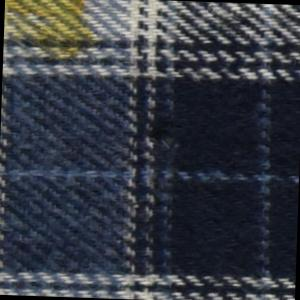Damage: (140, 116, 185, 159)
Stain: (4, 1, 108, 71)
